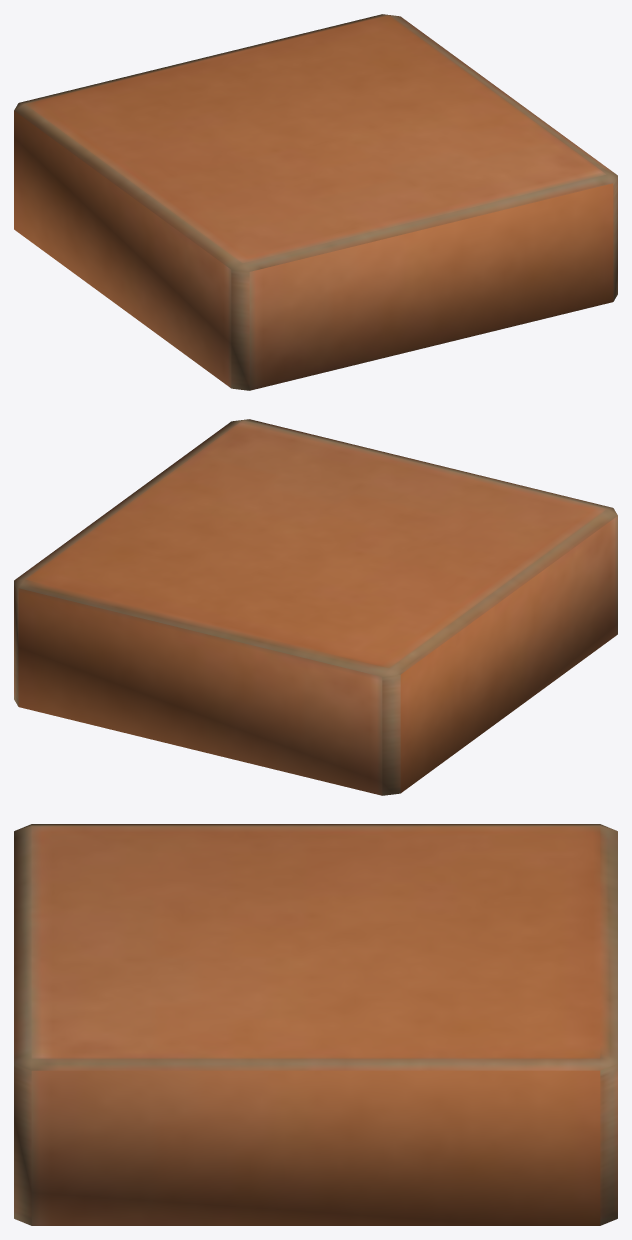
File: tuğla parçası.fbx
The picture shows the model from 3 angles, top to bottom: view 1: azimuth 30°, elevation 25°; view 2: azimuth 150°, elevation 25°; view 3: azimuth 270°, elevation 25°; orthographic projection. The views are drawn at different scales.
Visible parts, largest first — view 1: Cube; view 2: Cube; view 3: Cube.
Boxes of the visible parts, <box> form: Cube: <box>14,14,617,390</box>; Cube: <box>14,419,617,795</box>; Cube: <box>14,824,617,1225</box>.
Bounding box in the file's own units: 34.13 × 10.65 × 35.33.
1 material, 1 textured.
